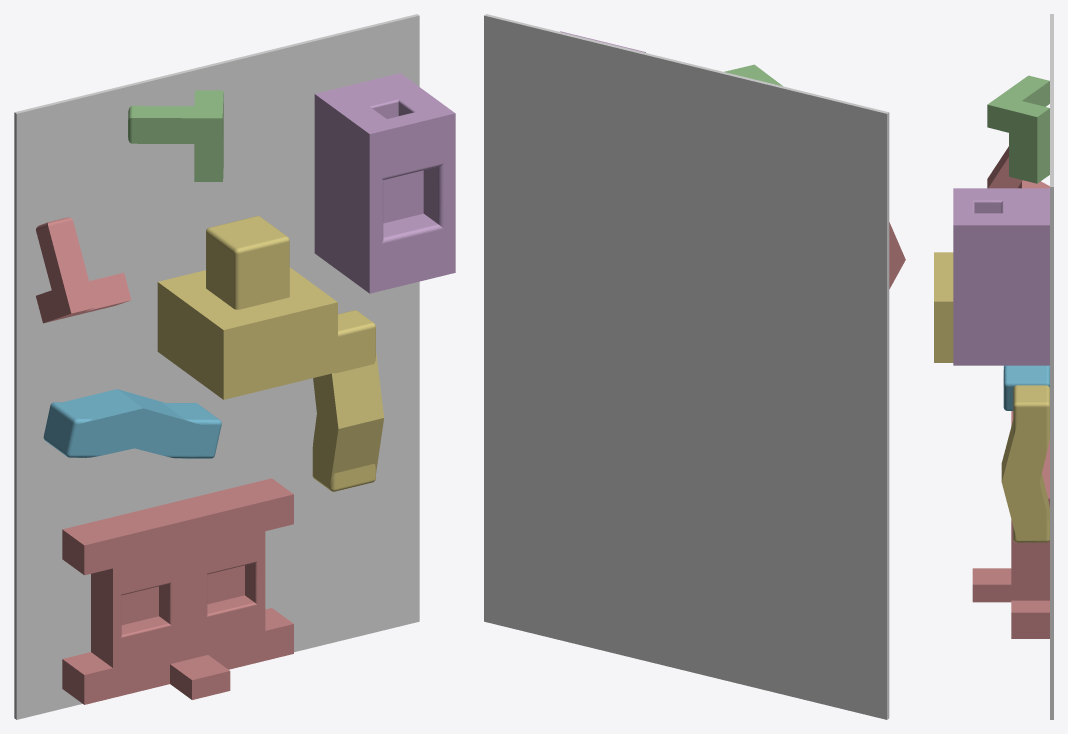
Rendered from pickup_layout.glb.
3 views of the same model, side by side, from view 1: azimuth 30°, elevation 25°; view 2: azimuth 150°, elevation 25°; view 3: azimuth 270°, elevation 25° (orthographic). The views are drawn at different scales.
Visible parts, largest first — view 1: world, 0.obj, 3.obj, 6.obj, 1.obj, 2.obj, 5.obj, 4.obj; view 2: world; view 3: 3.obj, 1.obj, 0.obj, 4.obj, world, 6.obj, 2.obj, 5.obj.
Part boxes in pixels (x1,y1,x2,y2): world: (14,14,419,719); 0.obj: (62,478,293,704); 3.obj: (314,73,455,293); 6.obj: (157,216,337,399); 1.obj: (312,310,383,491); 2.obj: (43,389,221,458); 5.obj: (36,217,131,323); 4.obj: (128,90,223,181); world: (484,14,889,719); 3.obj: (953,188,1049,365); 1.obj: (1001,385,1049,542); 0.obj: (972,411,1049,638); 4.obj: (987,75,1049,183); world: (1050,14,1053,719); 6.obj: (934,252,953,362); 2.obj: (1003,365,1049,410); 5.obj: (987,146,1049,188).
Bounding box in the file's own units: 21.15 × 30.4 × 6.2.
